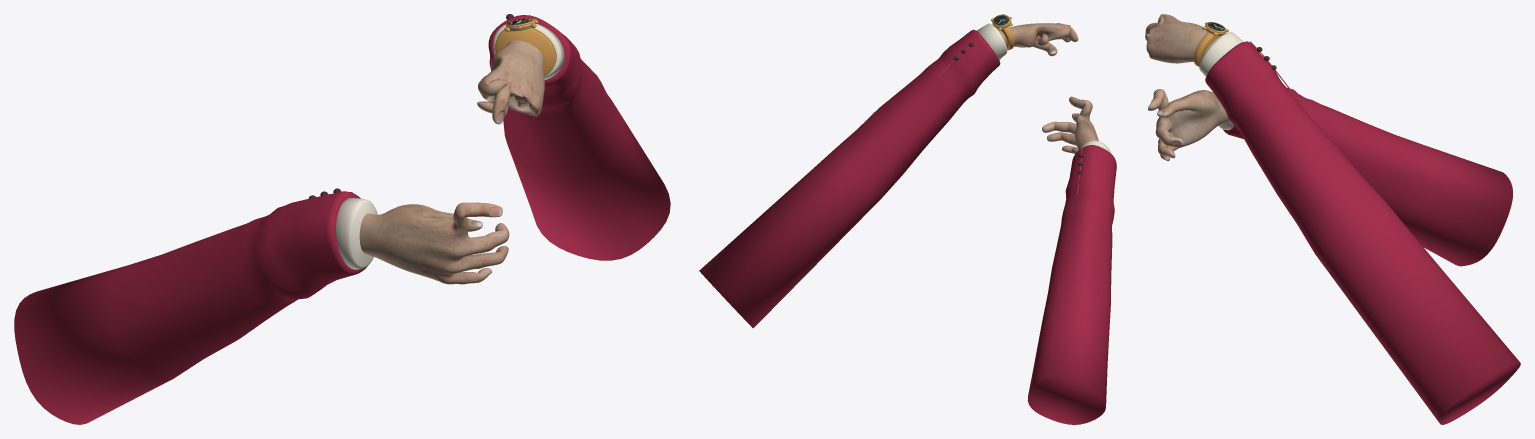
File: fps_left_bolt.glb
The picture shows the model from 3 angles, left to right: view 1: azimuth 30°, elevation 25°; view 2: azimuth 150°, elevation 25°; view 3: azimuth 270°, elevation 25°; orthographic projection. The views are drawn at different scales.
Parts seen in each view (by area): view 1: Right, Left; view 2: Left, Right; view 3: Left, Right.
Part boxes in pixels (x1,y1,x2,y2): Right: (14,188,509,424); Left: (477,14,670,260); Left: (699,14,1078,328); Right: (1027,96,1116,424); Left: (1145,14,1520,424); Right: (1148,87,1512,266).
Bounding box in the file's own units: 0.7693 × 0.5263 × 0.531.
9 materials, 1 textured.
